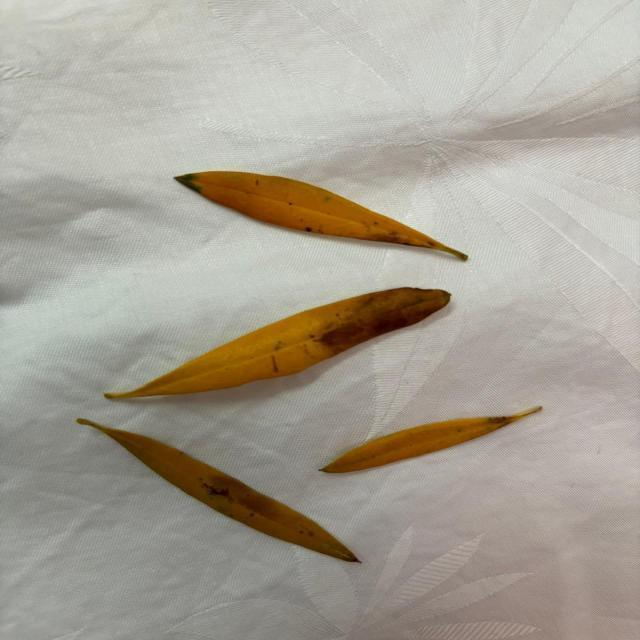OlivePeacockSpot: (78, 420, 360, 562), (104, 288, 450, 399), (176, 171, 467, 261), (320, 407, 541, 472)
